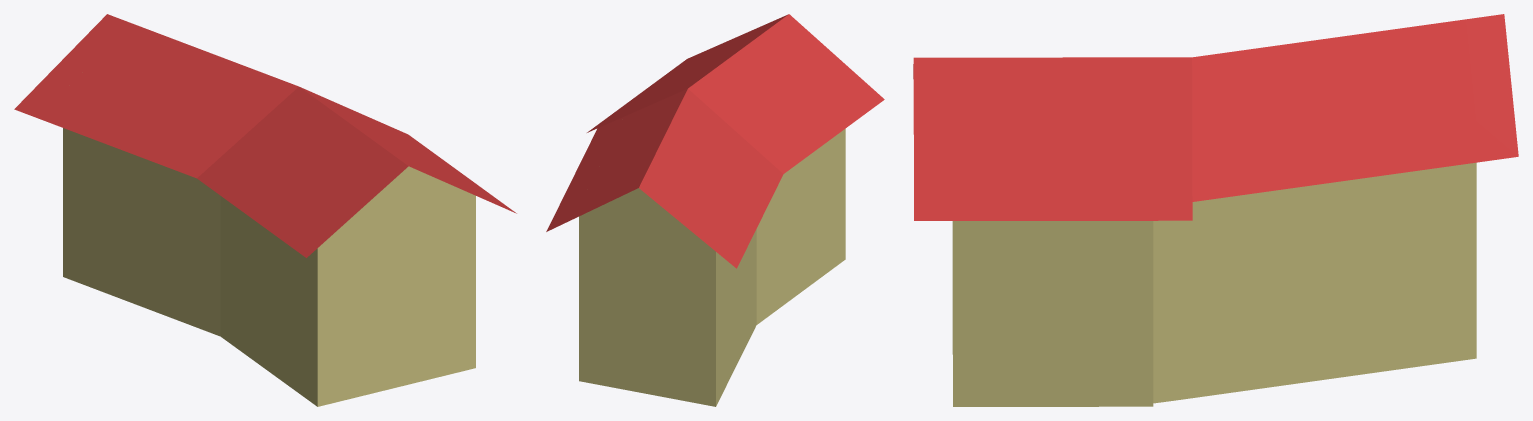
3 views of the same model, side by side, from view 1: azimuth 30°, elevation 25°; view 2: azimuth 150°, elevation 25°; view 3: azimuth 270°, elevation 25° (orthographic). The views are drawn at different scales.
Size of the model in its own units: 10.47 by 15.45 by 8.38.
